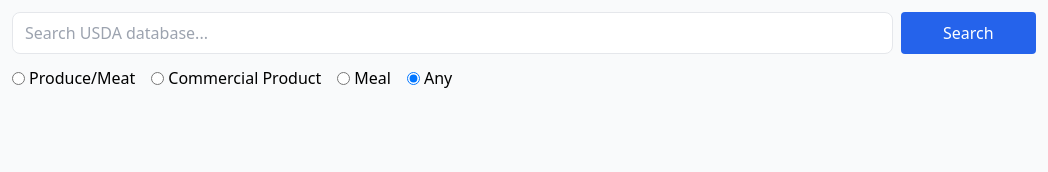
Test: IngredientSearch › validation › shows error when search is submitted with empty query
The image size is (1048, 172).
Click the button "Search": click(968, 33) [901,12,1036,54]
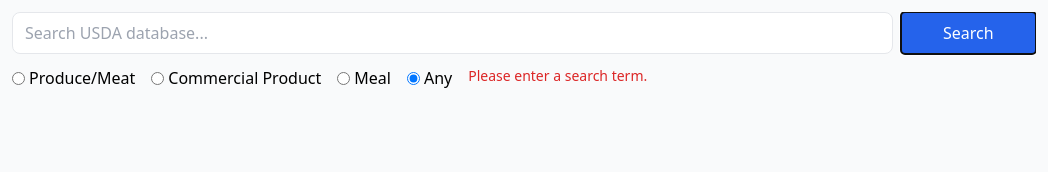
Check: the text "Please enter a search term." is shown, box [468,66,647,90]
